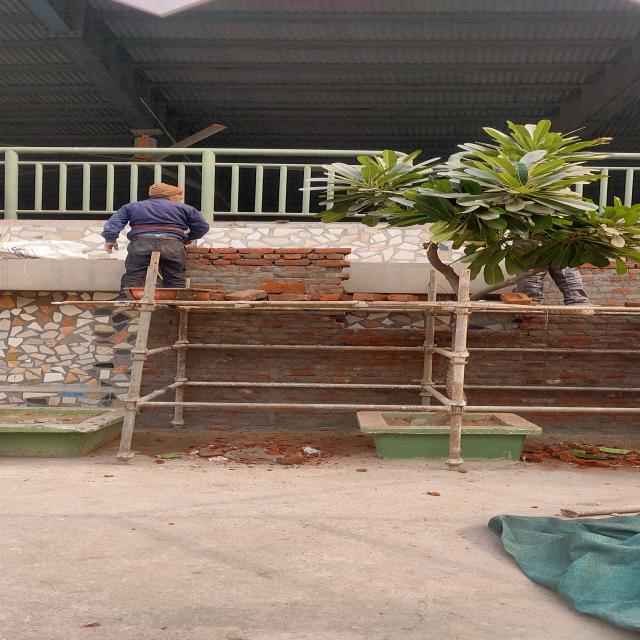unsafe: (102, 180, 211, 292)
